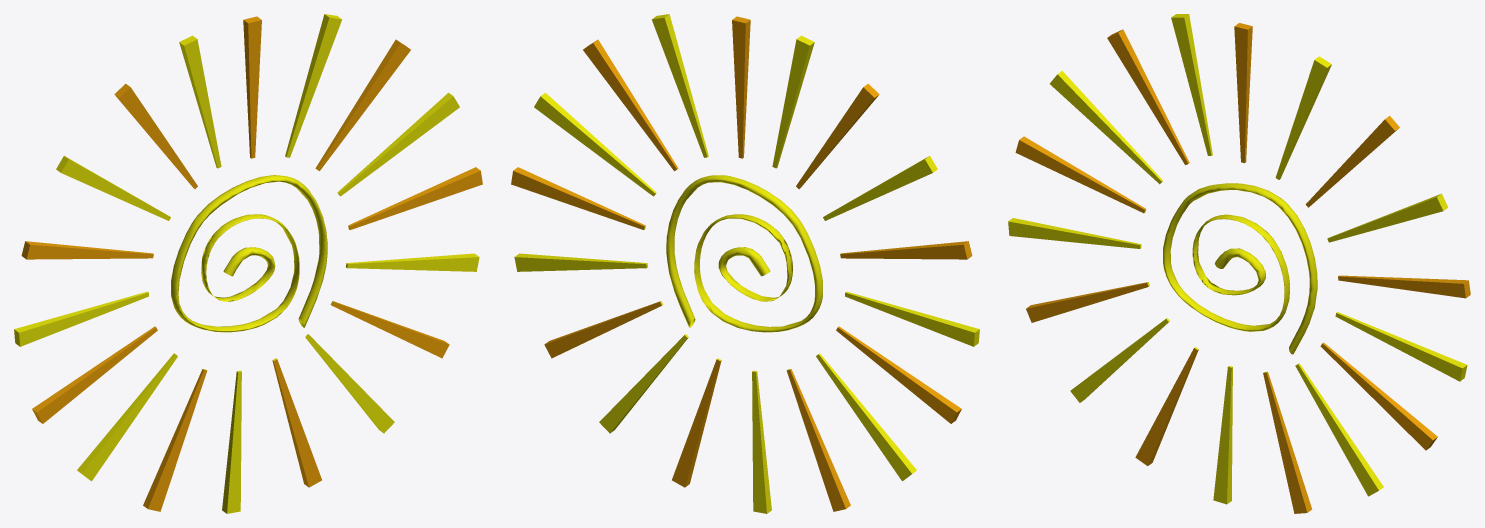
The model's file is Sun.fbx.
3 views of the same model, side by side, from view 1: azimuth 30°, elevation 25°; view 2: azimuth 150°, elevation 25°; view 3: azimuth 330°, elevation 25° (orthographic).
Parts seen in each view (by area): view 1: pCube19; view 2: pCube19; view 3: pCube19.
Part boxes in pixels (x1,y1,x2,y2): pCube19: [14, 14, 482, 513]; pCube19: [511, 14, 979, 513]; pCube19: [1008, 14, 1470, 513].
Bounding box in the file's own units: 18.02 × 18.04 × 0.3661.
